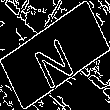N_NW: (30, 23, 80, 87)
